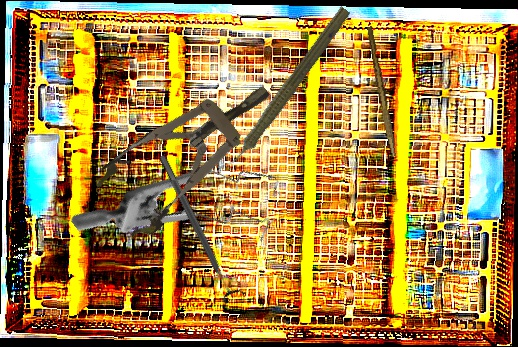Fixation Ring: (150, 150, 247, 305)
Handpiece: (215, 1, 354, 180)
Scalpel Handle: (363, 26, 401, 157)
Speculum: (68, 102, 302, 327), (88, 58, 293, 245)
